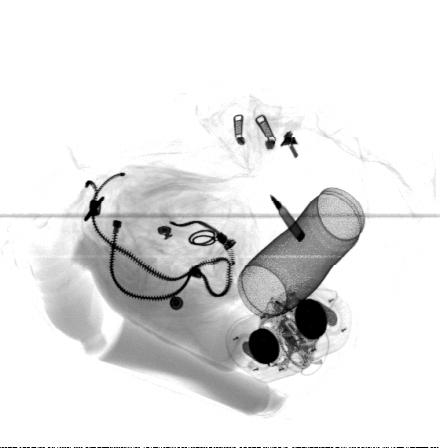Bullet: (269, 193, 307, 245)
